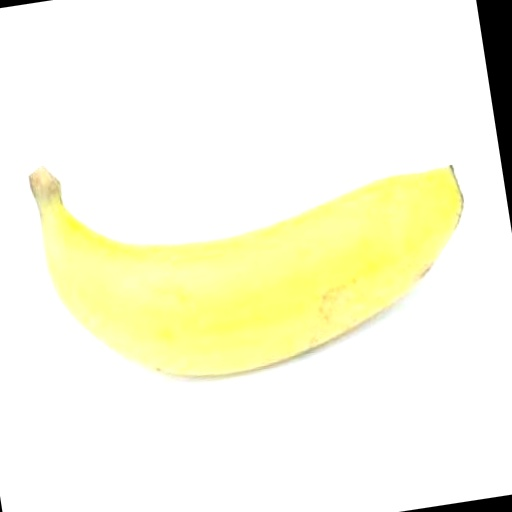fruit: (30, 167, 463, 375)
